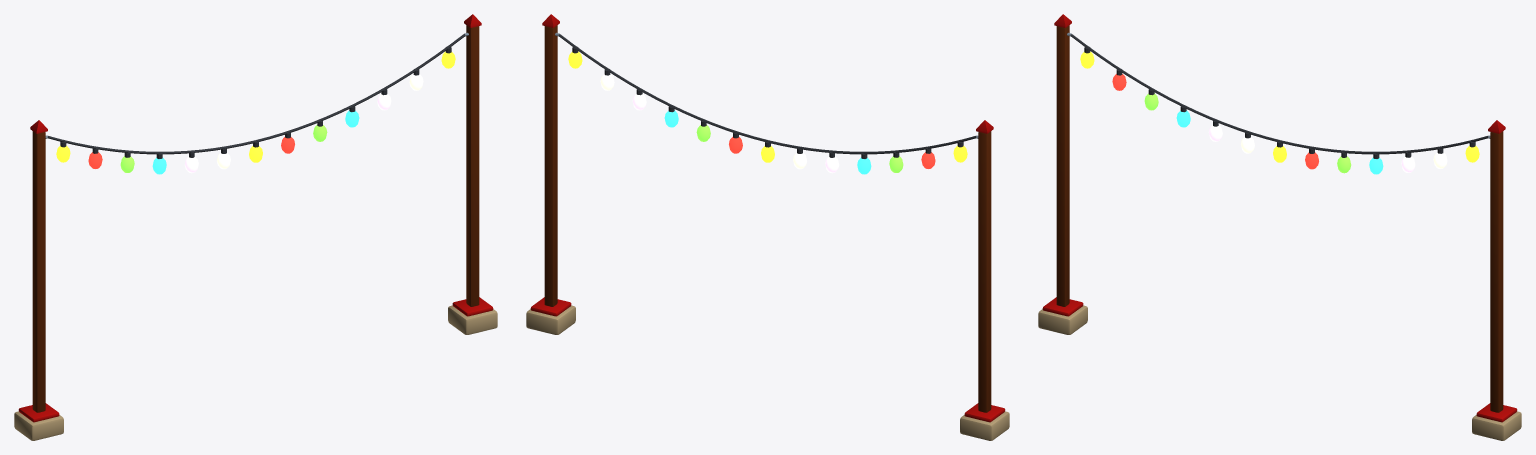
File: StringLights.fbx
The picture shows the model from 3 angles, left to right: view 1: azimuth 30°, elevation 25°; view 2: azimuth 150°, elevation 25°; view 3: azimuth 330°, elevation 25°; orthographic projection.
Parts seen in each view (by area): view 1: StringLights; view 2: StringLights; view 3: StringLights.
Boxes of the visible parts, x1,y1,x2,y2 form: StringLights: [14, 14, 497, 440]; StringLights: [526, 14, 1009, 440]; StringLights: [1038, 14, 1521, 440].
Bounding box in the file's own units: 14.1 × 9 × 1.
